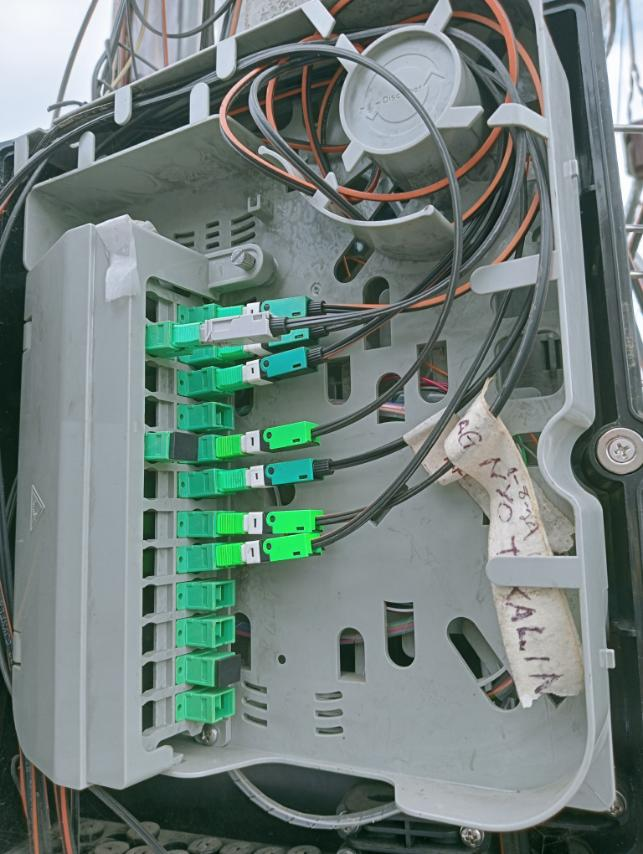no dust cap: (213, 688, 236, 723), (213, 619, 234, 647), (213, 403, 234, 430), (214, 583, 234, 608)
no port: (142, 697, 174, 736), (146, 291, 175, 331), (141, 659, 173, 695), (142, 622, 172, 657), (142, 584, 173, 617), (145, 396, 175, 430), (145, 361, 174, 395), (143, 548, 173, 579), (142, 512, 174, 541), (143, 471, 176, 498)
occupied: (217, 343, 328, 398), (217, 453, 340, 499), (173, 314, 293, 356), (216, 416, 324, 462), (216, 319, 328, 362), (215, 531, 325, 573), (216, 293, 325, 331), (218, 504, 329, 536)
vacant: (215, 655, 242, 689), (171, 432, 199, 462)
